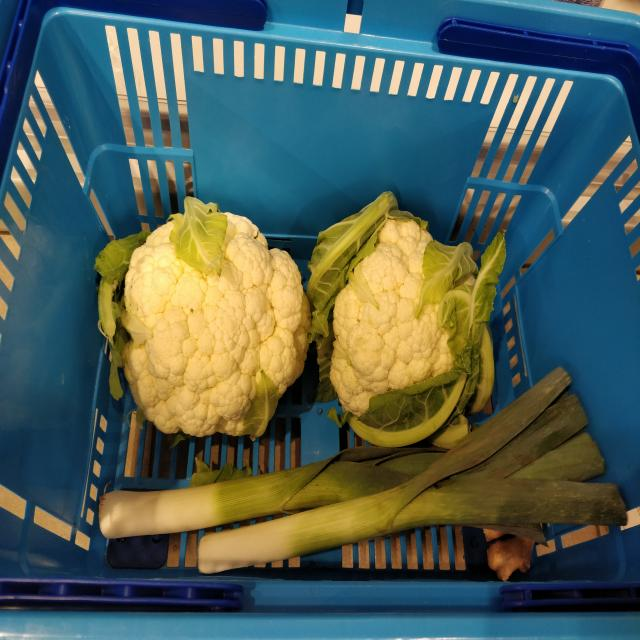cauliflower: (97, 196, 310, 440), (307, 193, 507, 449)
leek: (196, 367, 627, 574), (98, 446, 445, 539)
